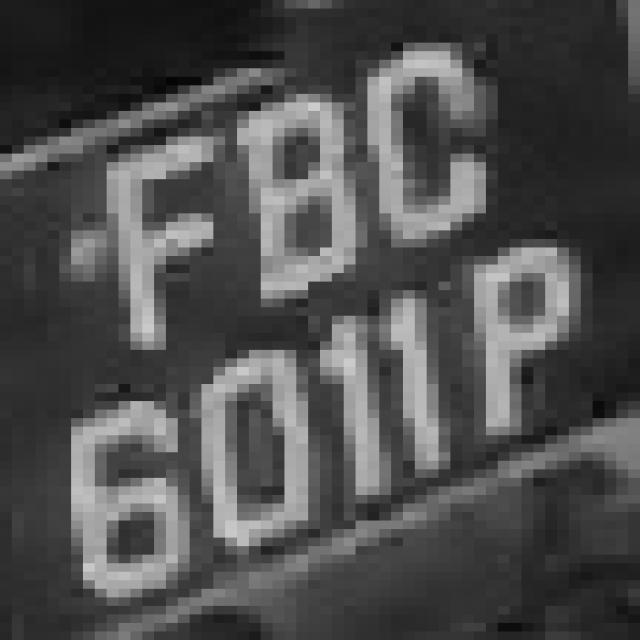0: (166, 333, 308, 563)
1: (296, 282, 403, 512), (379, 282, 474, 520)
6: (23, 401, 190, 589)
B: (202, 85, 380, 290)
C: (332, 34, 509, 239)
F: (83, 102, 225, 342)
P: (462, 231, 593, 504)
